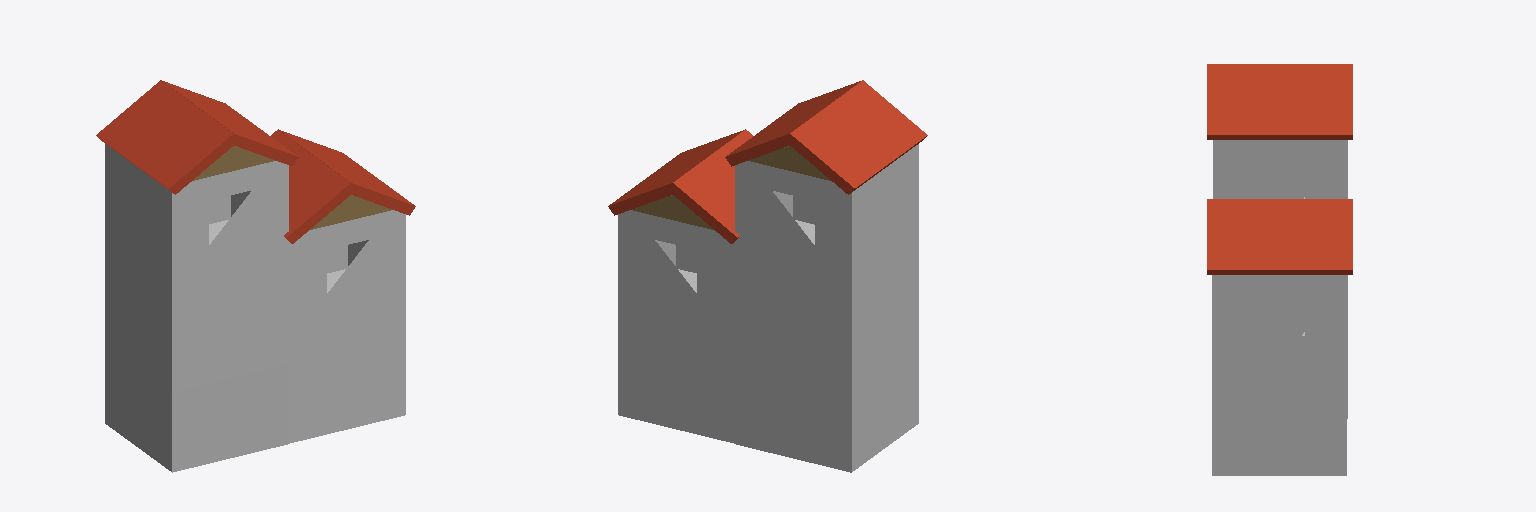
Rendered from house2.obj.
3 renders of one model, left to right at view 1: azimuth 30°, elevation 25°; view 2: azimuth 150°, elevation 25°; view 3: azimuth 270°, elevation 25°, orthographic.
Parts seen in each view (by area): view 1: body_Cube, body.001_Cube.004, base_Cube.001, house_roof, house.001_roof.001, roofpanel_Cube.005, roofpanel.001_Cube.003; view 2: body_Cube, body.001_Cube.004, base_Cube.001, house_roof, house.001_roof.001, roofpanel.001_Cube.003, roofpanel_Cube.005; view 3: body.001_Cube.004, house_roof, house.001_roof.001, body_Cube.
Part boxes in pixels (x1,y1,x2,y2): body_Cube: (105,144,288,393); body.001_Cube.004: (289,210,405,443); base_Cube.001: (105,346,288,472); house_roof: (96,80,298,194); house.001_roof.001: (271,129,415,243); roofpanel_Cube.005: (193,146,275,180); roofpanel.001_Cube.003: (310,195,391,229); body_Cube: (735,144,918,393); body.001_Cube.004: (618,210,734,443); base_Cube.001: (735,346,918,472); house_roof: (725,80,927,194); house.001_roof.001: (608,129,752,243); roofpanel.001_Cube.003: (632,195,713,229); roofpanel_Cube.005: (749,146,830,180); body.001_Cube.004: (1212,275,1346,475); house_roof: (1207,64,1352,139); house.001_roof.001: (1207,199,1352,274); body_Cube: (1213,140,1347,340).
Bounding box in the file's own units: 0.9446 × 1.19 × 0.4846.